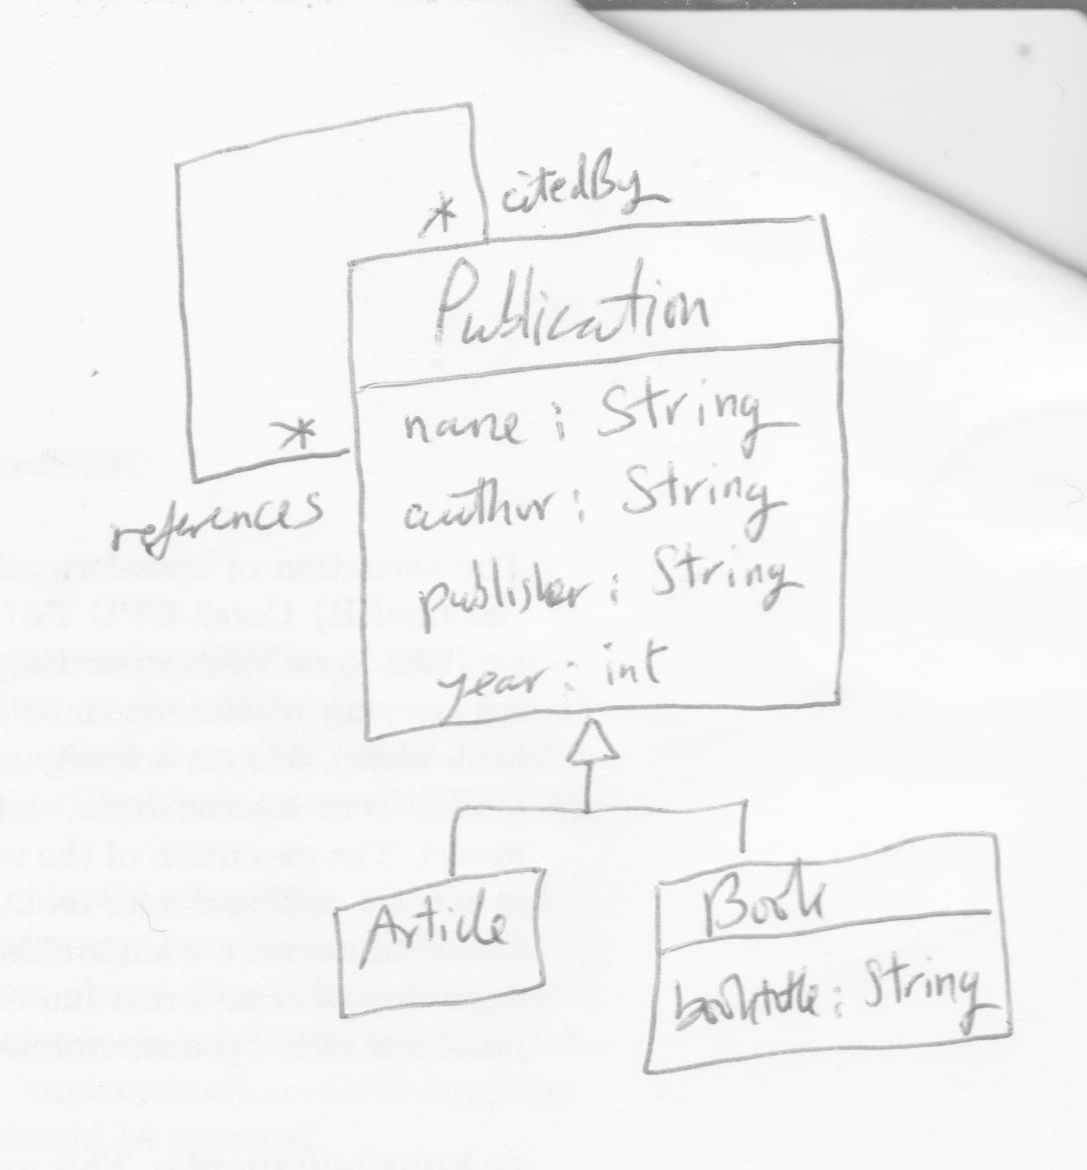association: (91, 90, 670, 567)
class attributes: (343, 206, 853, 749), (643, 827, 1012, 1078)
inheritance: (429, 711, 761, 888)
simple class: (330, 863, 550, 1023)
